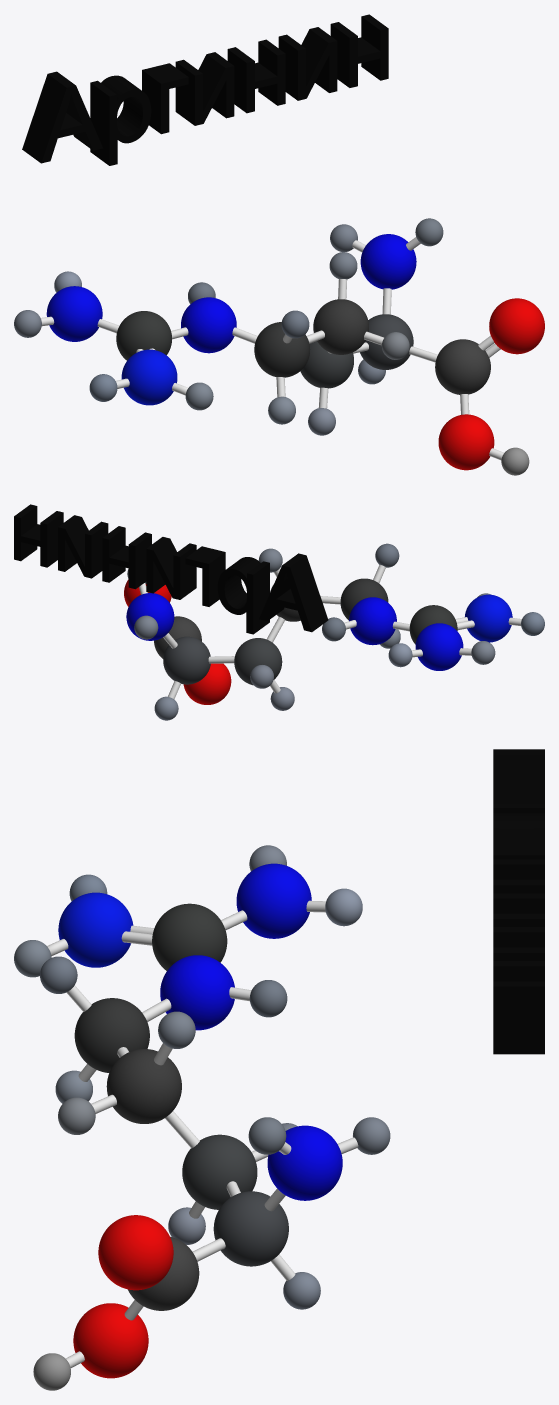
Rendered from arg_v2.gltf.
3 views of the same model, one above another, from view 1: azimuth 30°, elevation 25°; view 2: azimuth 150°, elevation 25°; view 3: azimuth 270°, elevation 25° (orthographic). The views are drawn at different scales.
Parts seen in each view (by area): view 1: Body2.001, Body5.001, Body3.001, Body4.001, Body1.001, Body7.001, Body4, Body12, Body3, Body1, Body10, Body8 (+18 smaller); view 2: Body2.001, Body5.001, Body3.001, Body4.001, Body1.001, Body7.001, Body2, Body10, Body8, Body11, Body5, Body1 (+16 smaller); view 3: Body7.001, Body4, Body10, Body12, Body11, Body6, Body2, Body1, Body5, Body8, Body7, Body9 (+19 smaller).
Boxes of the visible parts, x1,y1,x2,y2 form: Body2.001: (22,71,102,163); Body5.001: (90,75,151,165); Body3.001: (175,52,234,125); Body4.001: (278,27,337,100); Body1.001: (227,39,285,113); Body7.001: (330,14,388,87); Body4: (489,298,544,354); Body12: (438,414,494,470); Body3: (435,339,490,394); Body1: (360,234,416,289); Body10: (46,286,102,341); Body8: (181,297,236,353); Body2.001: (259,553,328,632); Body5.001: (217,557,269,634); Body3.001: (146,537,196,599); Body4.001: (58,515,108,578); Body1.001: (102,526,151,589); Body7.001: (14,504,63,567); Body2: (163,636,210,684); Body10: (415,623,463,670); Body8: (349,597,396,645); Body11: (465,594,512,642); Body5: (234,638,282,685); Body1: (126,593,174,640); Body7.001: (493,961,544,1054); Body4: (98,1215,173,1290); Body10: (236,863,311,938); Body12: (73,1303,148,1378); Body11: (58,892,133,967); Body6: (106,1049,181,1123); Body2: (213,1191,288,1266); Body1: (267,1125,342,1200); Body5: (182,1134,257,1209); Body8: (160,955,234,1030); Body7: (74,998,149,1072); Body9: (152,903,227,970).
Size of the model in its own units: 5.37 by 3.65 by 3.85.
